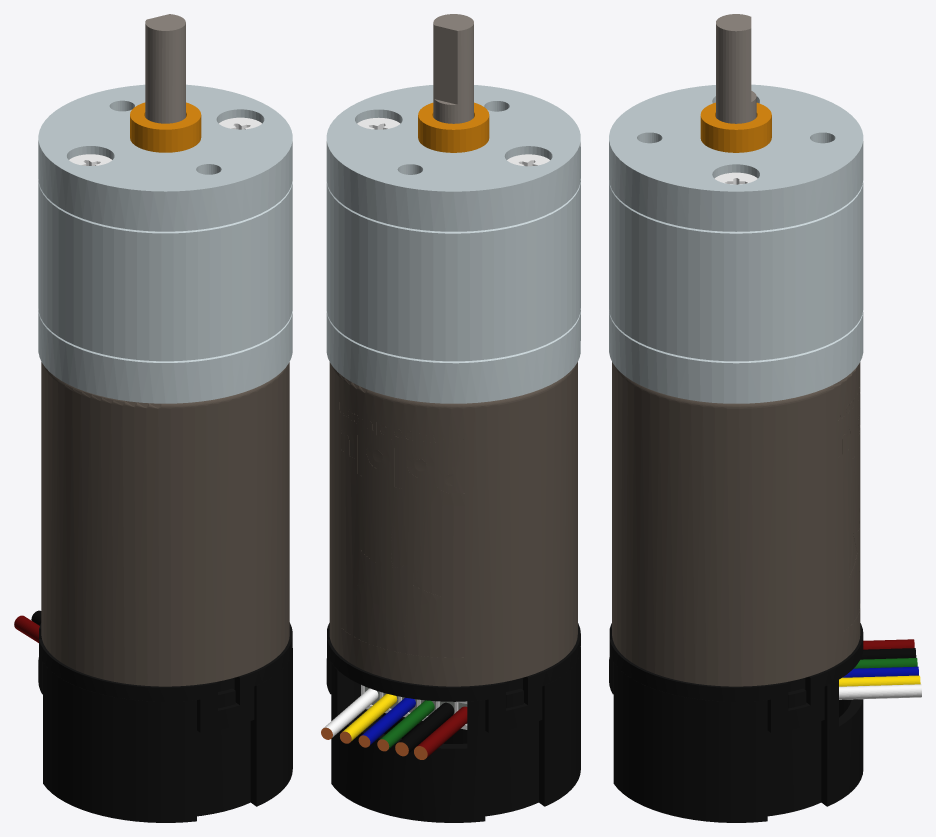
File: pololu-25d-gearmotor.glb
3 views of the same model, side by side, from view 1: azimuth 30°, elevation 25°; view 2: azimuth 150°, elevation 25°; view 3: azimuth 270°, elevation 25° (orthographic).
Visible parts, largest first — view 1: pololu-25d-gearmotor; view 2: pololu-25d-gearmotor; view 3: pololu-25d-gearmotor.
Boxes of the visible parts, x1,y1,x2,y2 form: pololu-25d-gearmotor: [14, 14, 292, 822]; pololu-25d-gearmotor: [321, 14, 580, 822]; pololu-25d-gearmotor: [609, 14, 921, 822].
Bounding box in the file's own units: 25 × 80.95 × 30.75.
